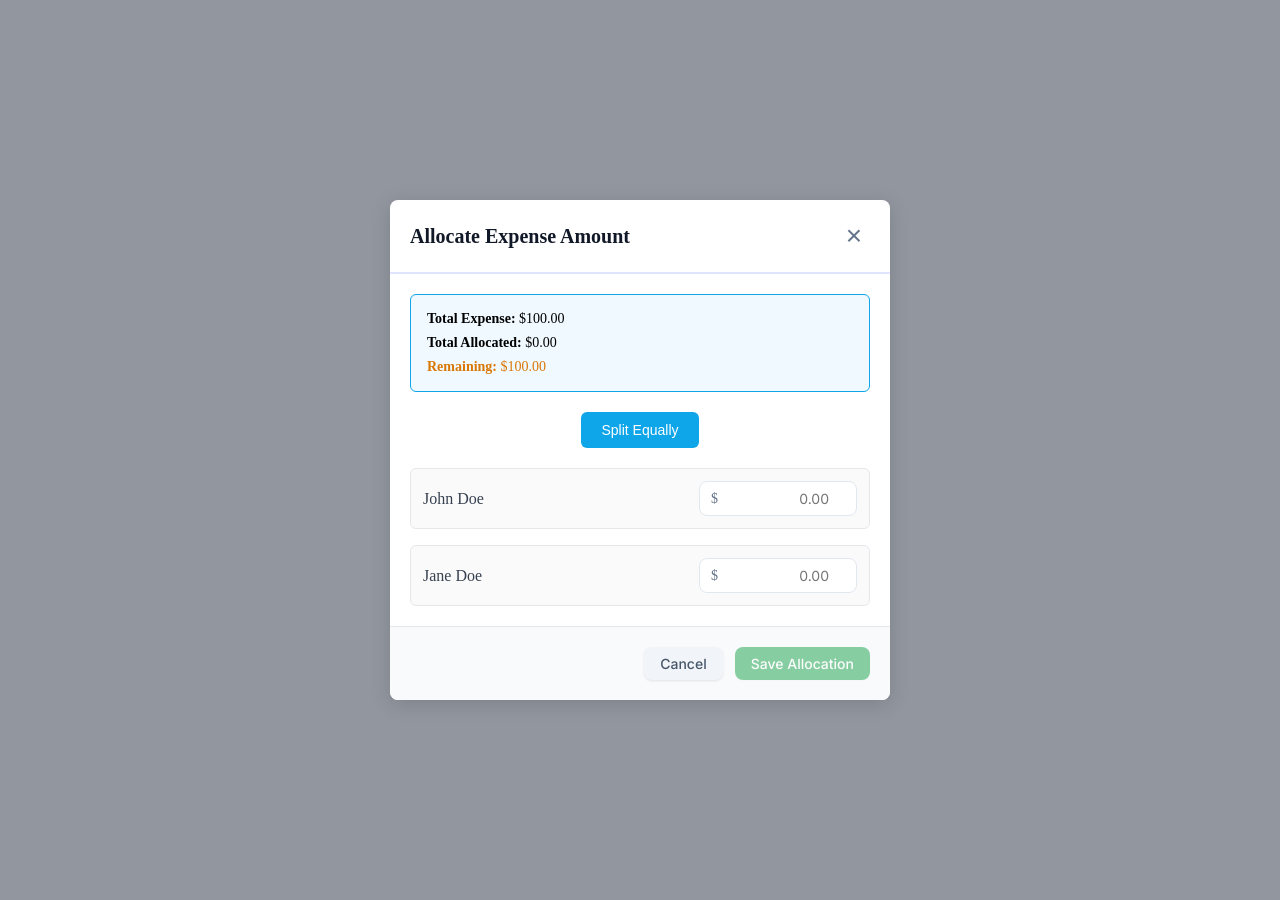
Test: PersonAllocationModal › Split Equally functionality › splits amount equally among people
Click the button "Split Equally" at (640, 430), box top-left (582, 412), bottom-right (698, 448)
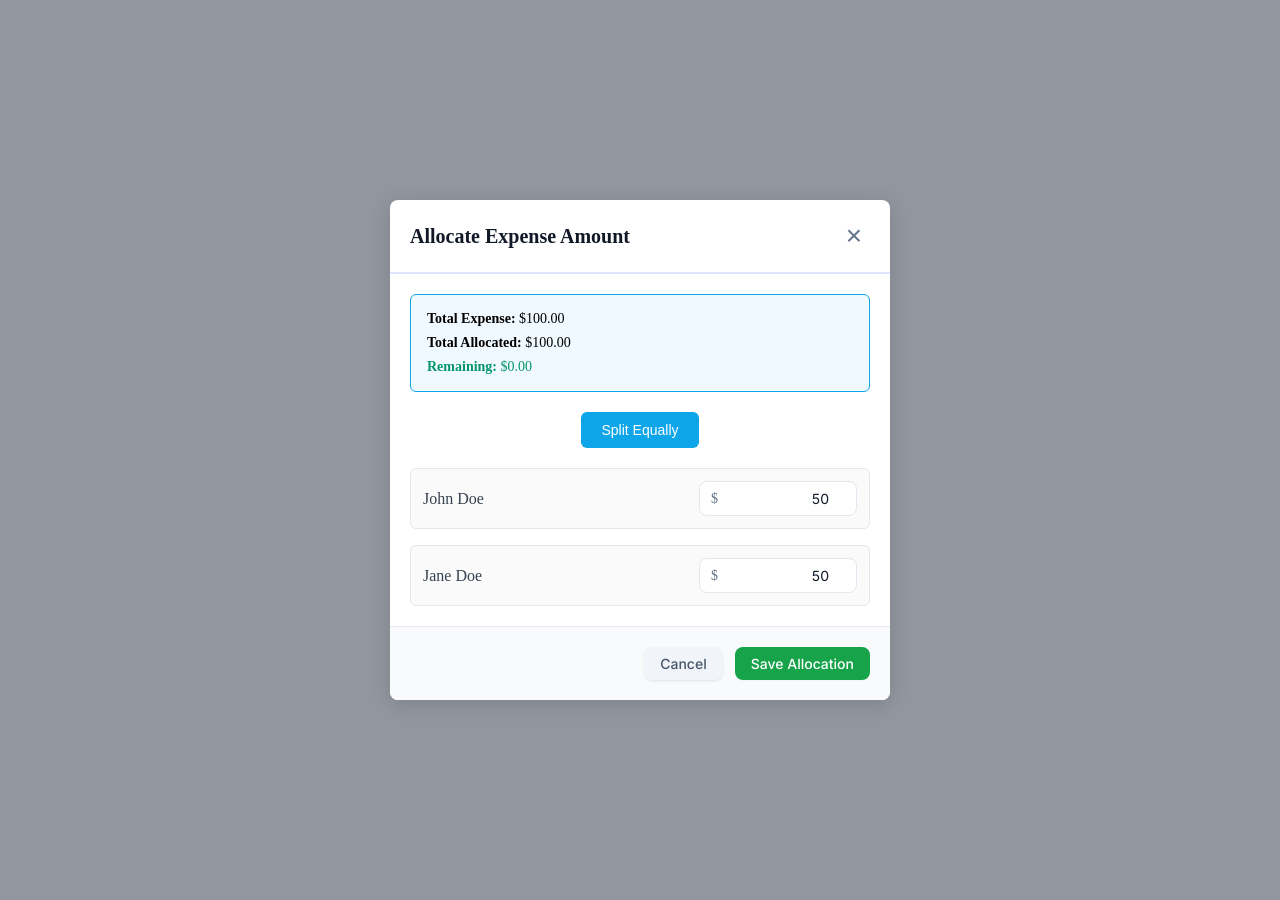
Check: the number field with placeholder "0.00" in the row of "John Doe" holds "50", box top-left (699, 481), bottom-right (857, 516)
Check: the number field with placeholder "0.00" in the row of "Jane Doe" holds "50", box top-left (699, 558), bottom-right (857, 593)
